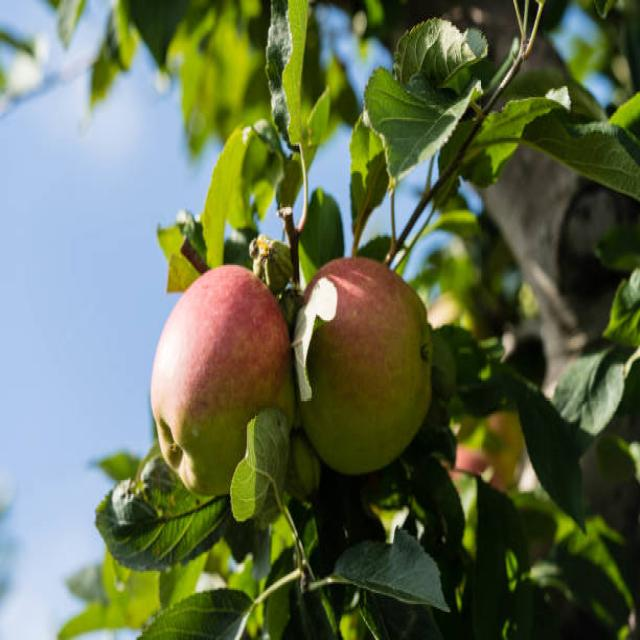Unripe: (149, 260, 290, 495), (292, 257, 434, 474)
